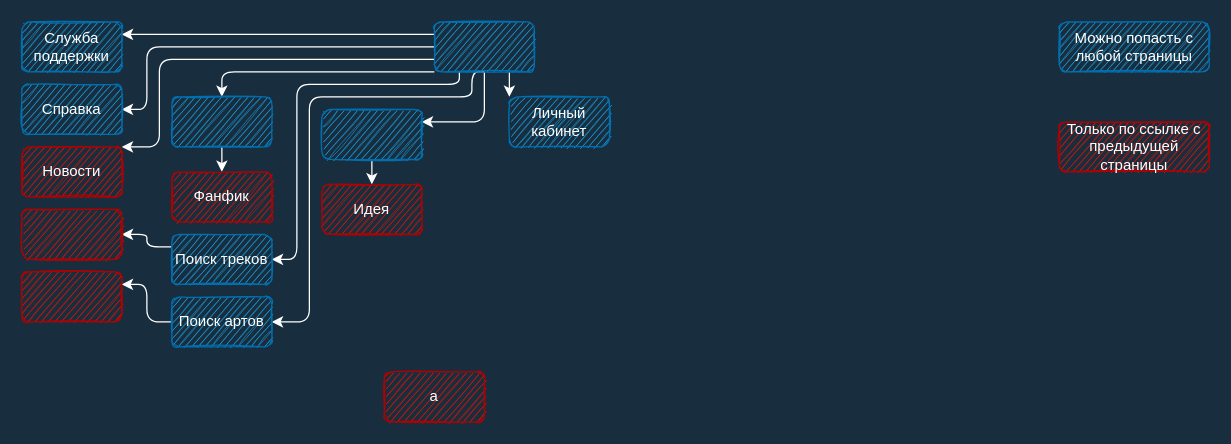
This 1231x444 diagram has some shape labels left out. The shapes that lost their labels are listed below. From the top down, each one's centre as x and y in pixels, then its label:
At [483,46]: "Главная страница".
At [221,121]: "Поиск фанфиков".
At [371,133]: "Поиск идей".
At [71,233]: "Трек".
At [71,296]: "Арт".
